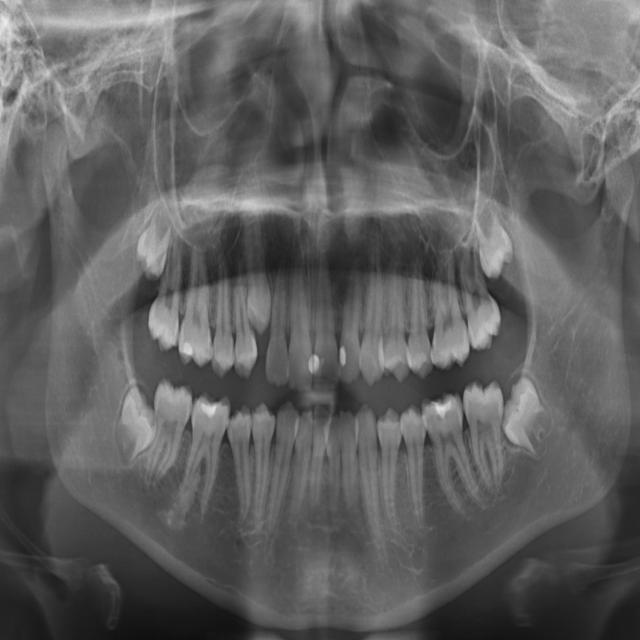CompositeResinRestoration: (199, 395, 220, 426), (433, 392, 453, 422), (181, 332, 195, 362), (313, 346, 322, 379), (340, 344, 347, 369), (307, 352, 313, 379)
DentalCaries: (429, 333, 441, 358)
ImpactedTooth: (242, 220, 280, 339)
